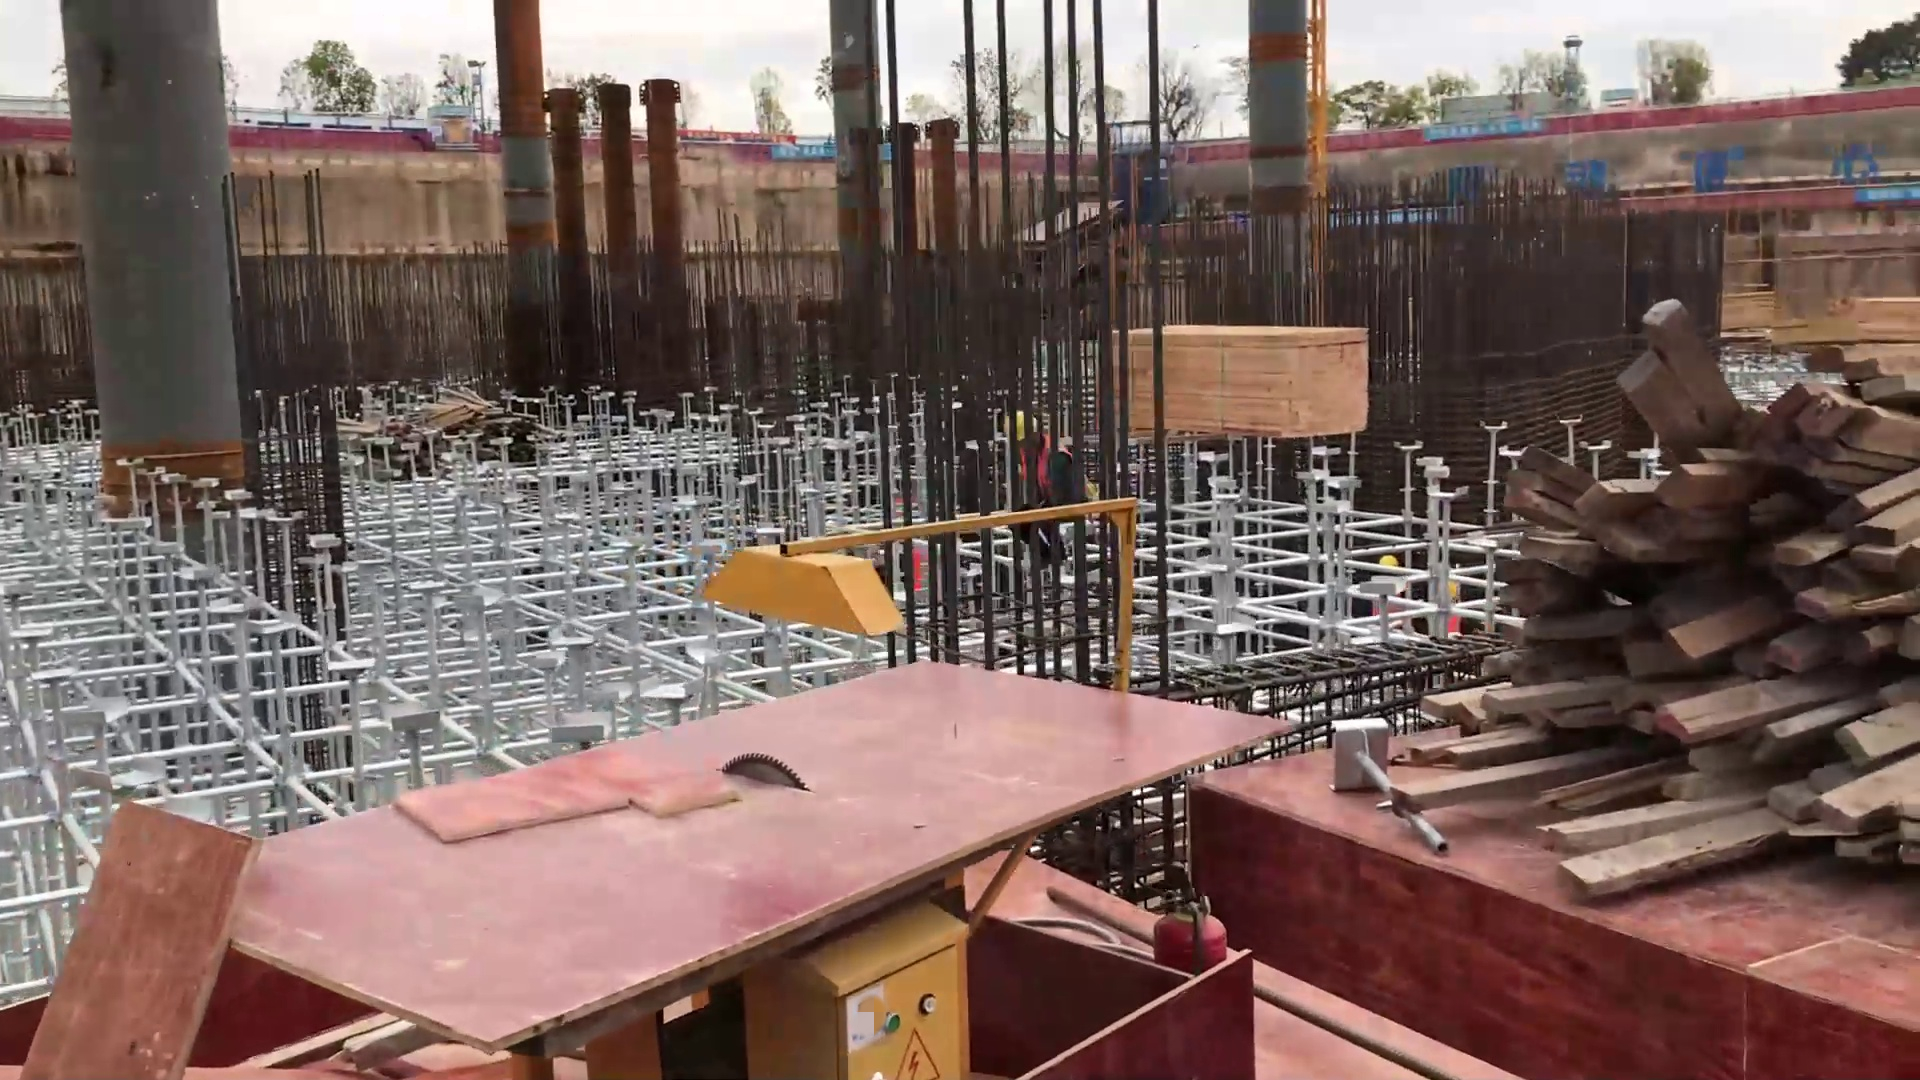helmet: (1019, 405, 1045, 445), (1434, 579, 1461, 603), (1373, 549, 1404, 569)
person: (1013, 408, 1101, 555), (1374, 551, 1471, 636)
vest: (1031, 445, 1094, 521), (903, 528, 948, 595), (1379, 580, 1406, 637)
